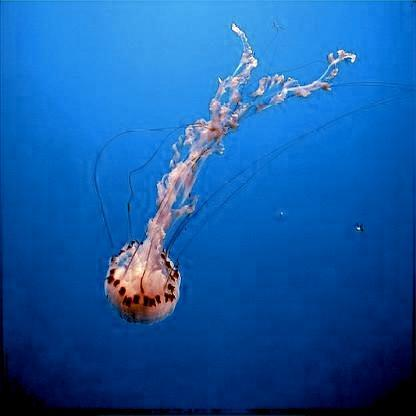Mosaic: (106, 20, 359, 324)
